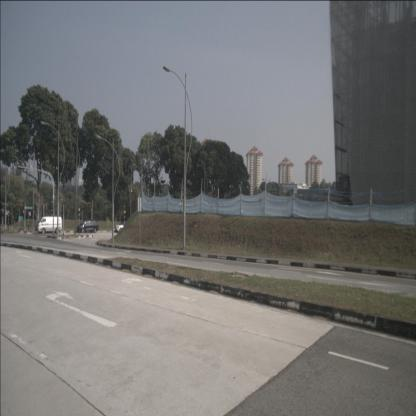vehicle-car: (36, 216, 62, 234), (76, 219, 99, 234), (115, 222, 130, 233)
